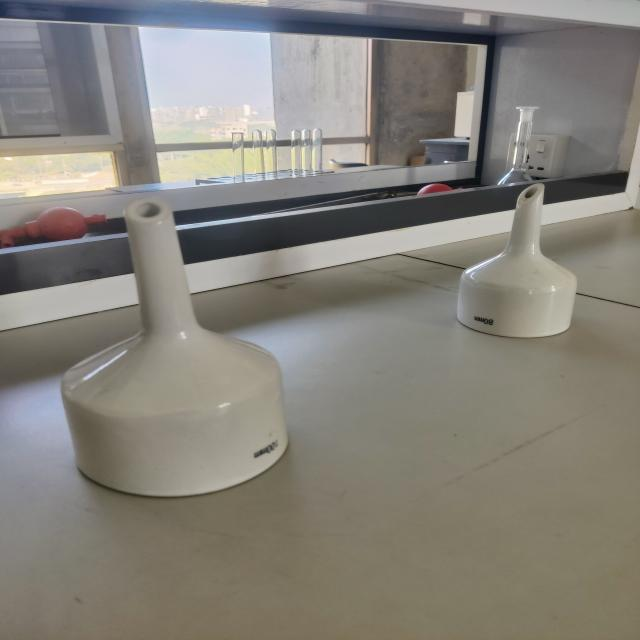Buchner_Funnel: (37, 176, 326, 522), (423, 164, 609, 353)
